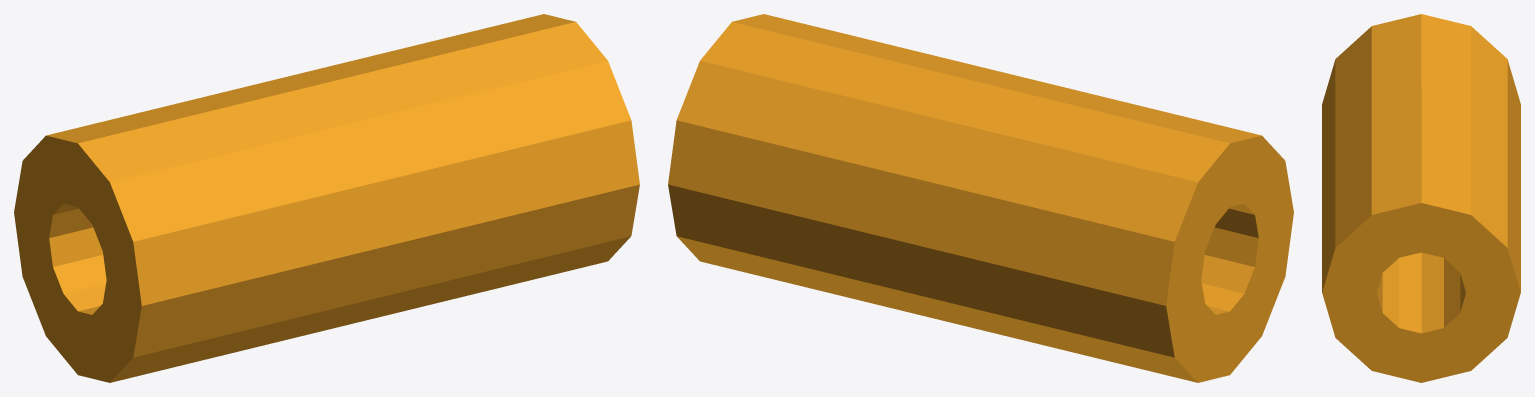
Rendered from Item_Chikuwa_v001.fbx.
3 views of the same model, side by side, from view 1: azimuth 30°, elevation 25°; view 2: azimuth 150°, elevation 25°; view 3: azimuth 270°, elevation 25° (orthographic). The views are drawn at different scales.
Parts seen in each view (by area): view 1: Chikuwa; view 2: Chikuwa; view 3: Chikuwa.
Boxes of the visible parts, x1=… form: Chikuwa: x1=14, y1=14, x2=639, y2=382; Chikuwa: x1=668, y1=14, x2=1293, y2=382; Chikuwa: x1=1322, y1=14, x2=1520, y2=382.
Size of the model in its own units: 18 by 8 by 8.
